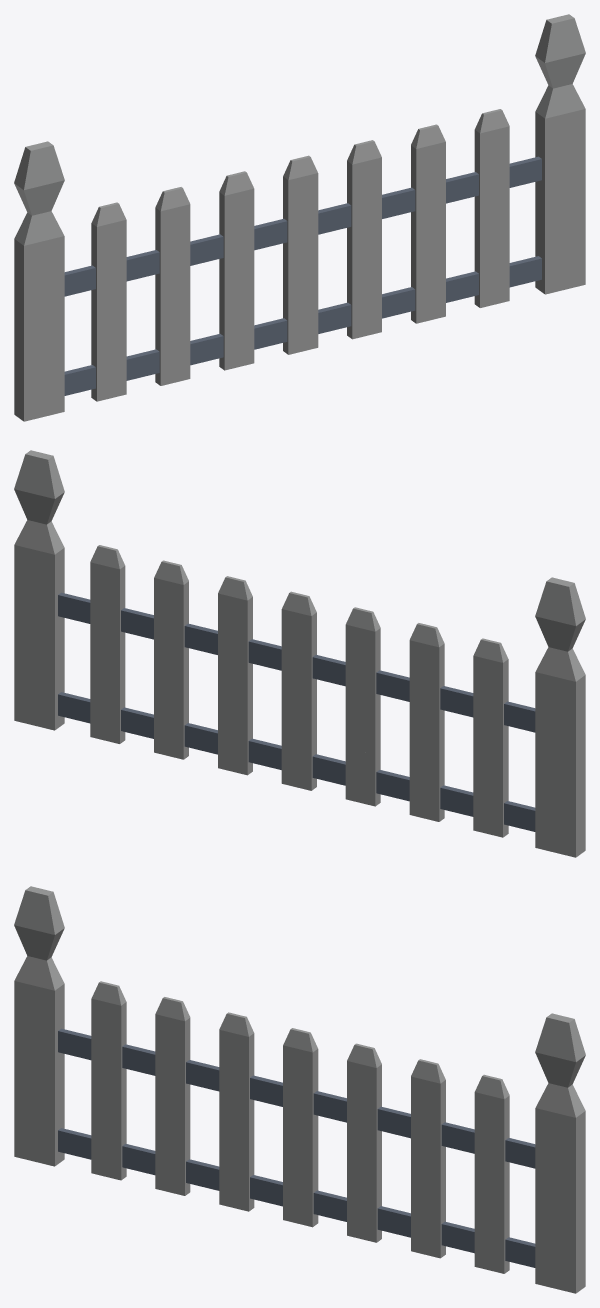
File: Fence 1 Fractured.fbx
The picture shows the model from 3 angles, top to bottom: view 1: azimuth 30°, elevation 25°; view 2: azimuth 150°, elevation 25°; view 3: azimuth 330°, elevation 25°; orthographic projection.
Parts seen in each view (by area): view 1: Fence_01_Breaking.001, Fence_01_Breaking; view 2: Fence_01_Breaking.001, Fence_01_Breaking; view 3: Fence_01_Breaking.001, Fence_01_Breaking.
Part boxes in pixels (left/top/right/bottom): Fence_01_Breaking.001: left=14, top=140, right=396, bottom=421; Fence_01_Breaking: left=202, top=14, right=585, bottom=370; Fence_01_Breaking.001: left=203, top=576, right=585, bottom=857; Fence_01_Breaking: left=14, top=450, right=397, bottom=806; Fence_01_Breaking.001: left=14, top=886, right=395, bottom=1195; Fence_01_Breaking: left=201, top=1013, right=585, bottom=1293.
Bounding box in the file's own units: 178 × 80.61 × 5.4.
